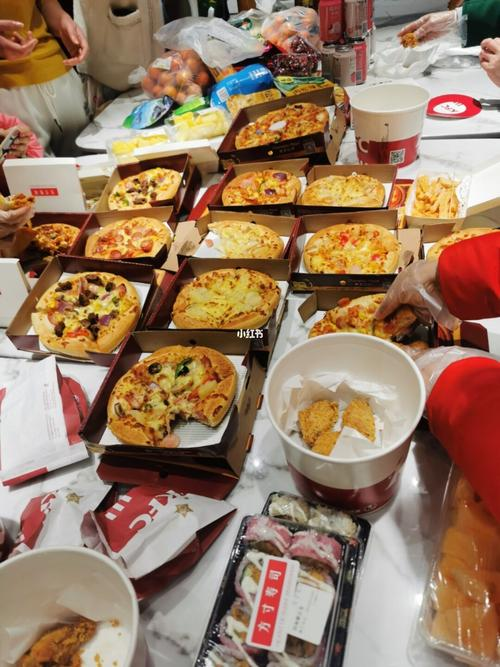food: (264, 328, 426, 488), (96, 329, 244, 449), (6, 538, 142, 656), (24, 259, 146, 362), (159, 256, 286, 334), (299, 287, 445, 353), (296, 210, 408, 278), (224, 93, 338, 157), (97, 153, 186, 214), (80, 209, 174, 265), (198, 205, 288, 260), (295, 161, 393, 208), (219, 158, 307, 207)
